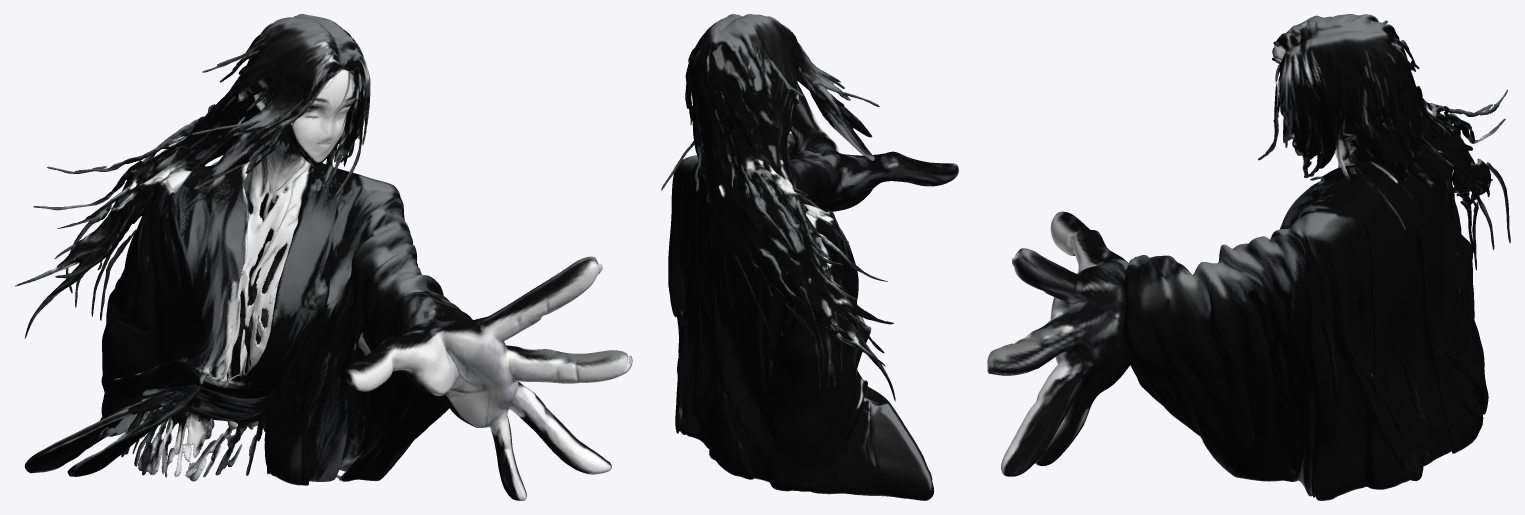
The picture shows the model from 3 angles, left to right: view 1: azimuth 30°, elevation 25°; view 2: azimuth 150°, elevation 25°; view 3: azimuth 270°, elevation 25°; orthographic projection. The views are drawn at different scales.
Visible parts, largest first — view 1: tripo_node_256e1a95-9543-41a4-a97d-0d859b907499; view 2: tripo_node_256e1a95-9543-41a4-a97d-0d859b907499; view 3: tripo_node_256e1a95-9543-41a4-a97d-0d859b907499.
Part boxes in pixels (<box>): tripo_node_256e1a95-9543-41a4-a97d-0d859b907499: <box>15,14,632,500</box>; tripo_node_256e1a95-9543-41a4-a97d-0d859b907499: <box>661,14,958,500</box>; tripo_node_256e1a95-9543-41a4-a97d-0d859b907499: <box>987,14,1510,500</box>.
Size of the model in its own units: 0.9308 by 0.9475 by 1.
1 material, 1 textured.
